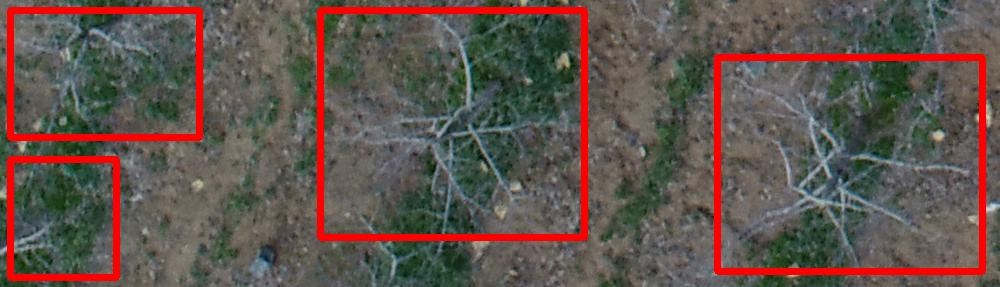apple: (320, 10, 584, 237), (717, 57, 982, 271), (10, 10, 199, 137), (10, 159, 116, 277)
